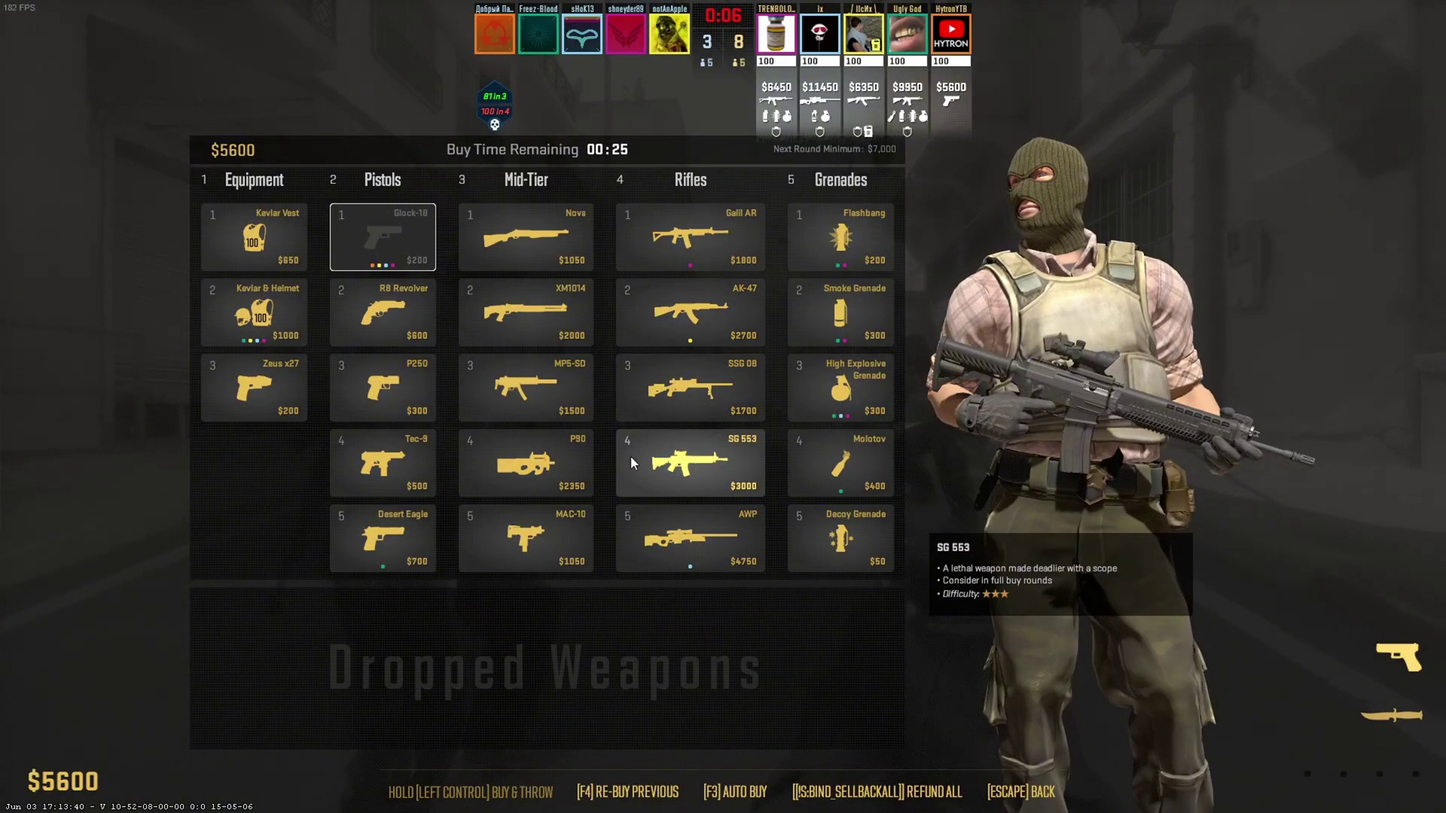Terrorist: (961, 137, 1222, 813)
